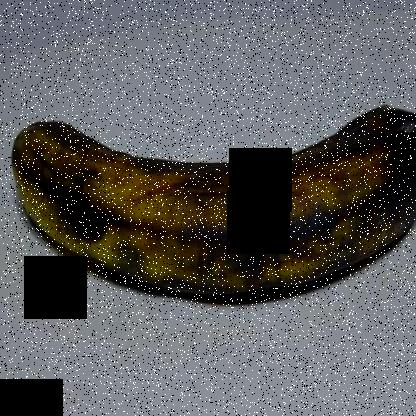overripe: (0, 58, 415, 313)
